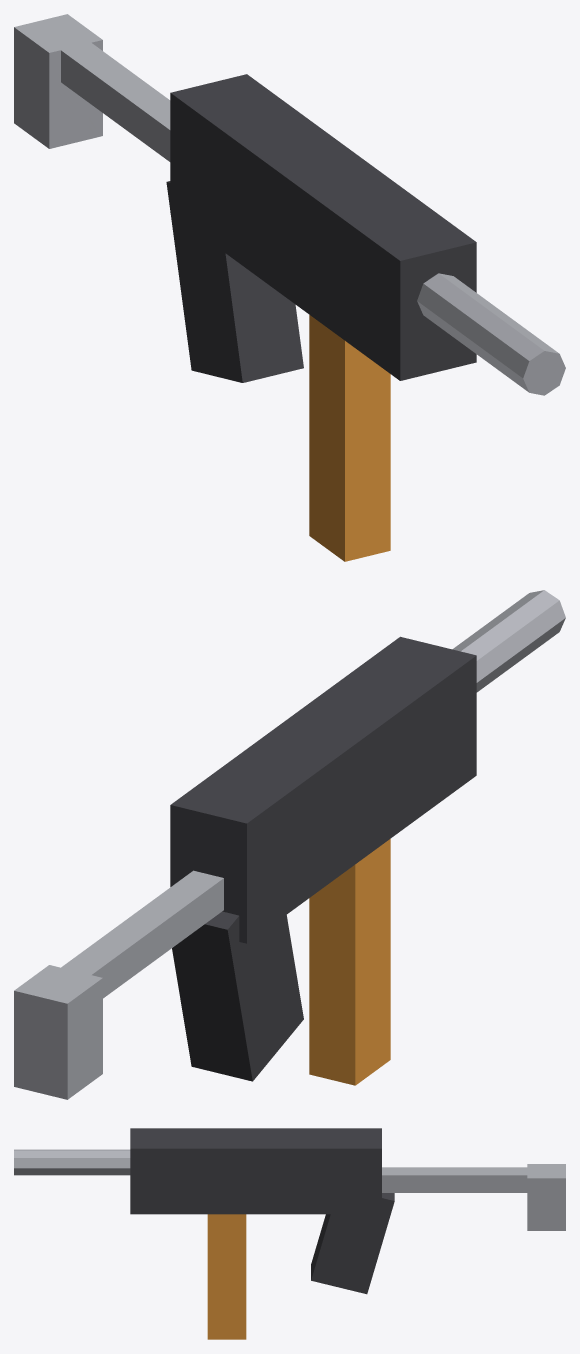
The model's file is SMG.fbx.
3 renders of one model, top to bottom at view 1: azimuth 30°, elevation 25°; view 2: azimuth 150°, elevation 25°; view 3: azimuth 270°, elevation 25°, orthographic. The views are drawn at different scales.
Parts seen in each view (by area): view 1: SMG; view 2: SMG; view 3: SMG.
Part boxes in pixels (x1,y1,x2,y2): SMG: (14, 14, 565, 561); SMG: (14, 590, 565, 1099); SMG: (14, 1128, 565, 1339).
Size of the model in its own units: 0.05 by 0.2225 by 0.57.
